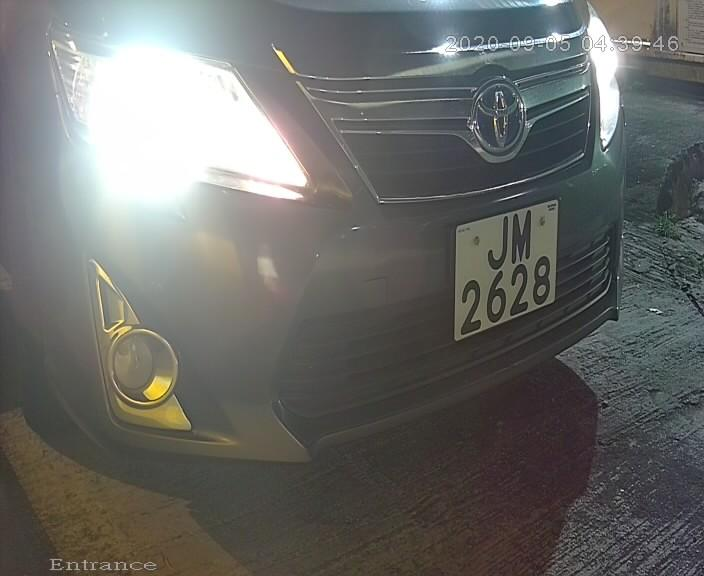License Plate: (447, 183, 563, 355)
